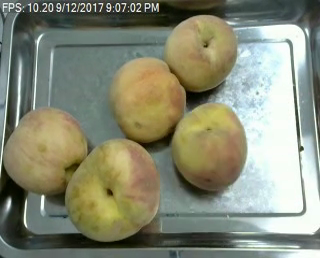Peach: (65, 137, 159, 242), (3, 106, 88, 195), (170, 102, 247, 191), (109, 56, 186, 143), (162, 15, 238, 93)
